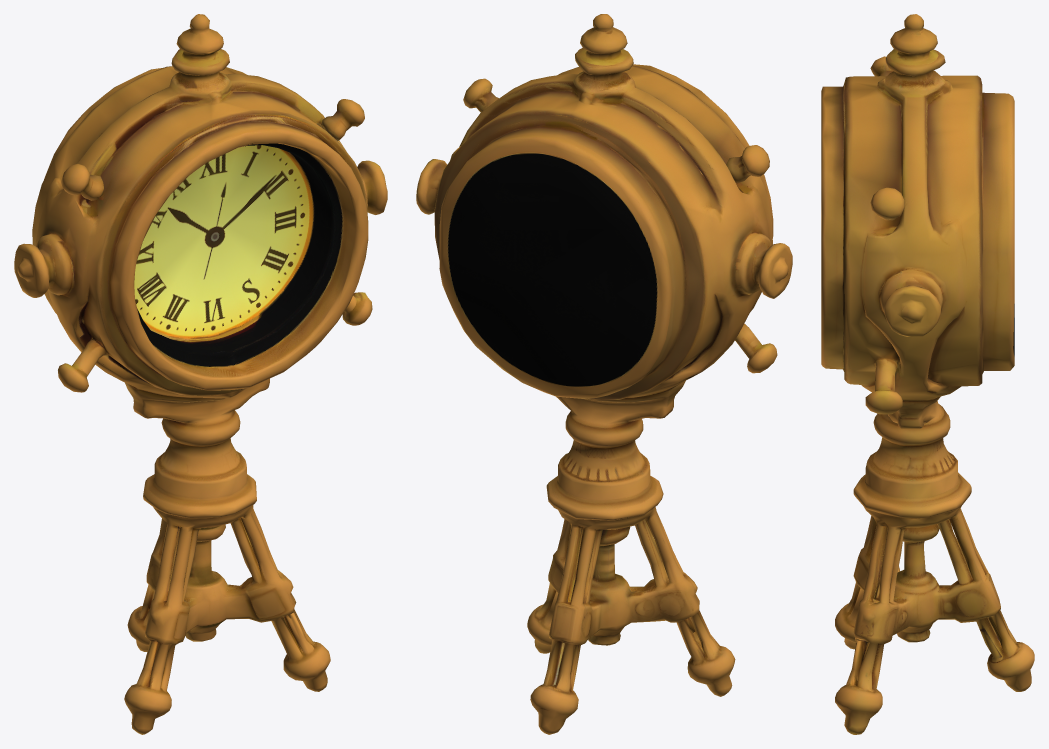
Rendered from cartographer_compass.glb.
3 views of the same model, side by side, from view 1: azimuth 30°, elevation 25°; view 2: azimuth 150°, elevation 25°; view 3: azimuth 270°, elevation 25° (orthographic).
Size of the model in its own units: 1.07 by 1.91 by 0.544.
1 material, 1 textured.
